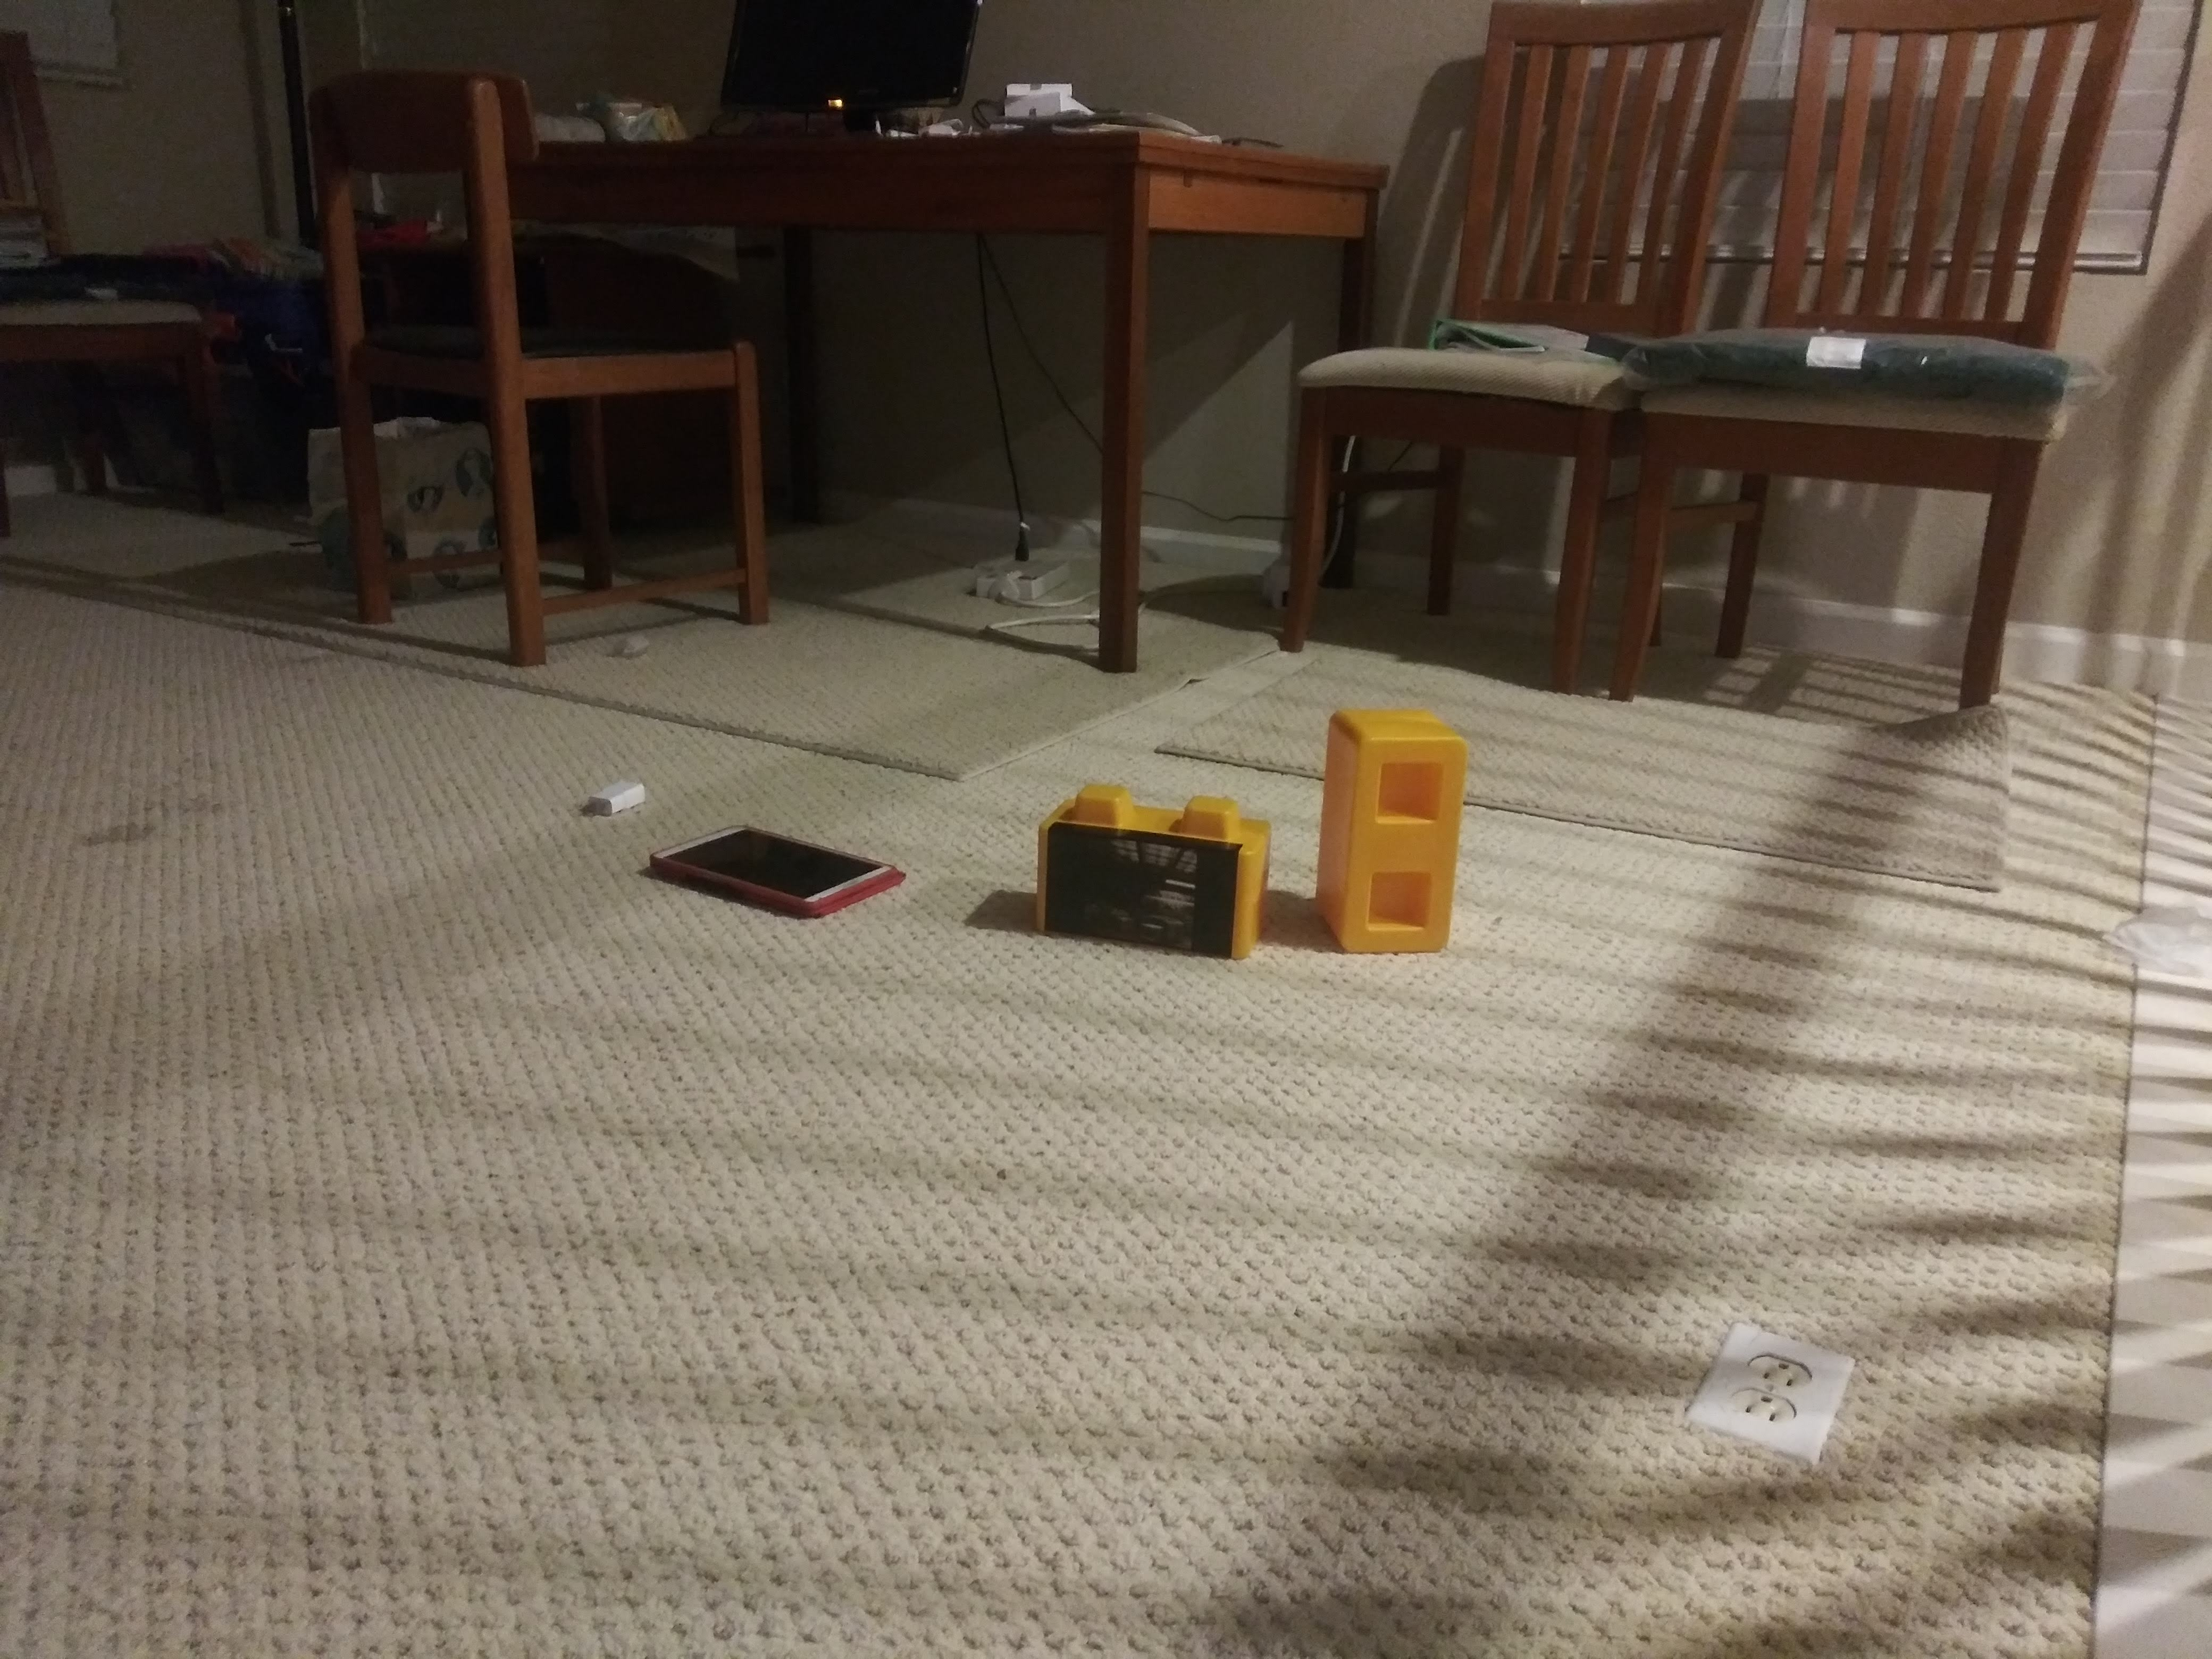skystone: (1036, 802, 1266, 960)
stone: (1320, 706, 1467, 953)
